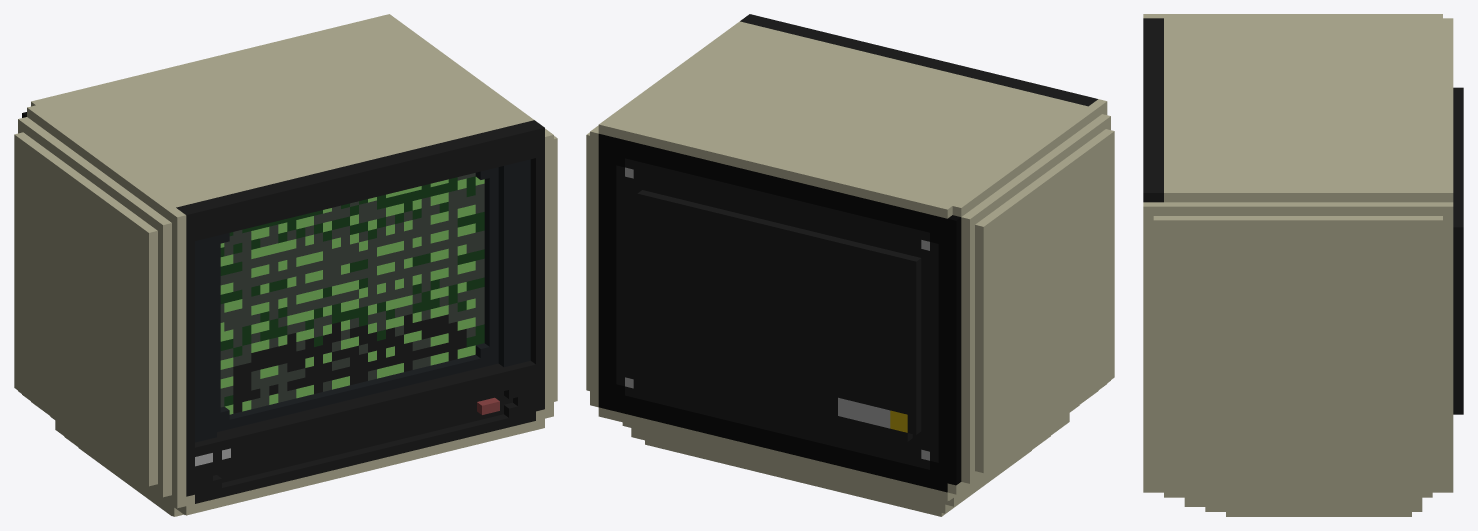
Rendered from 1980s PC Monitor Retro.fbx.
3 views of the same model, side by side, from view 1: azimuth 30°, elevation 25°; view 2: azimuth 150°, elevation 25°; view 3: azimuth 270°, elevation 25° (orthographic). The views are drawn at different scales.
Parts seen in each view (by area): view 1: 1980sPCmonitor; view 2: 1980sPCmonitor; view 3: 1980sPCmonitor.
Boxes of the visible parts, bbox=[...] form: 1980sPCmonitor: bbox=[14, 14, 557, 516]; 1980sPCmonitor: bbox=[586, 14, 1114, 516]; 1980sPCmonitor: bbox=[1143, 14, 1463, 516].
Bounding box in the file's own units: 4500 × 3600 × 3100.
